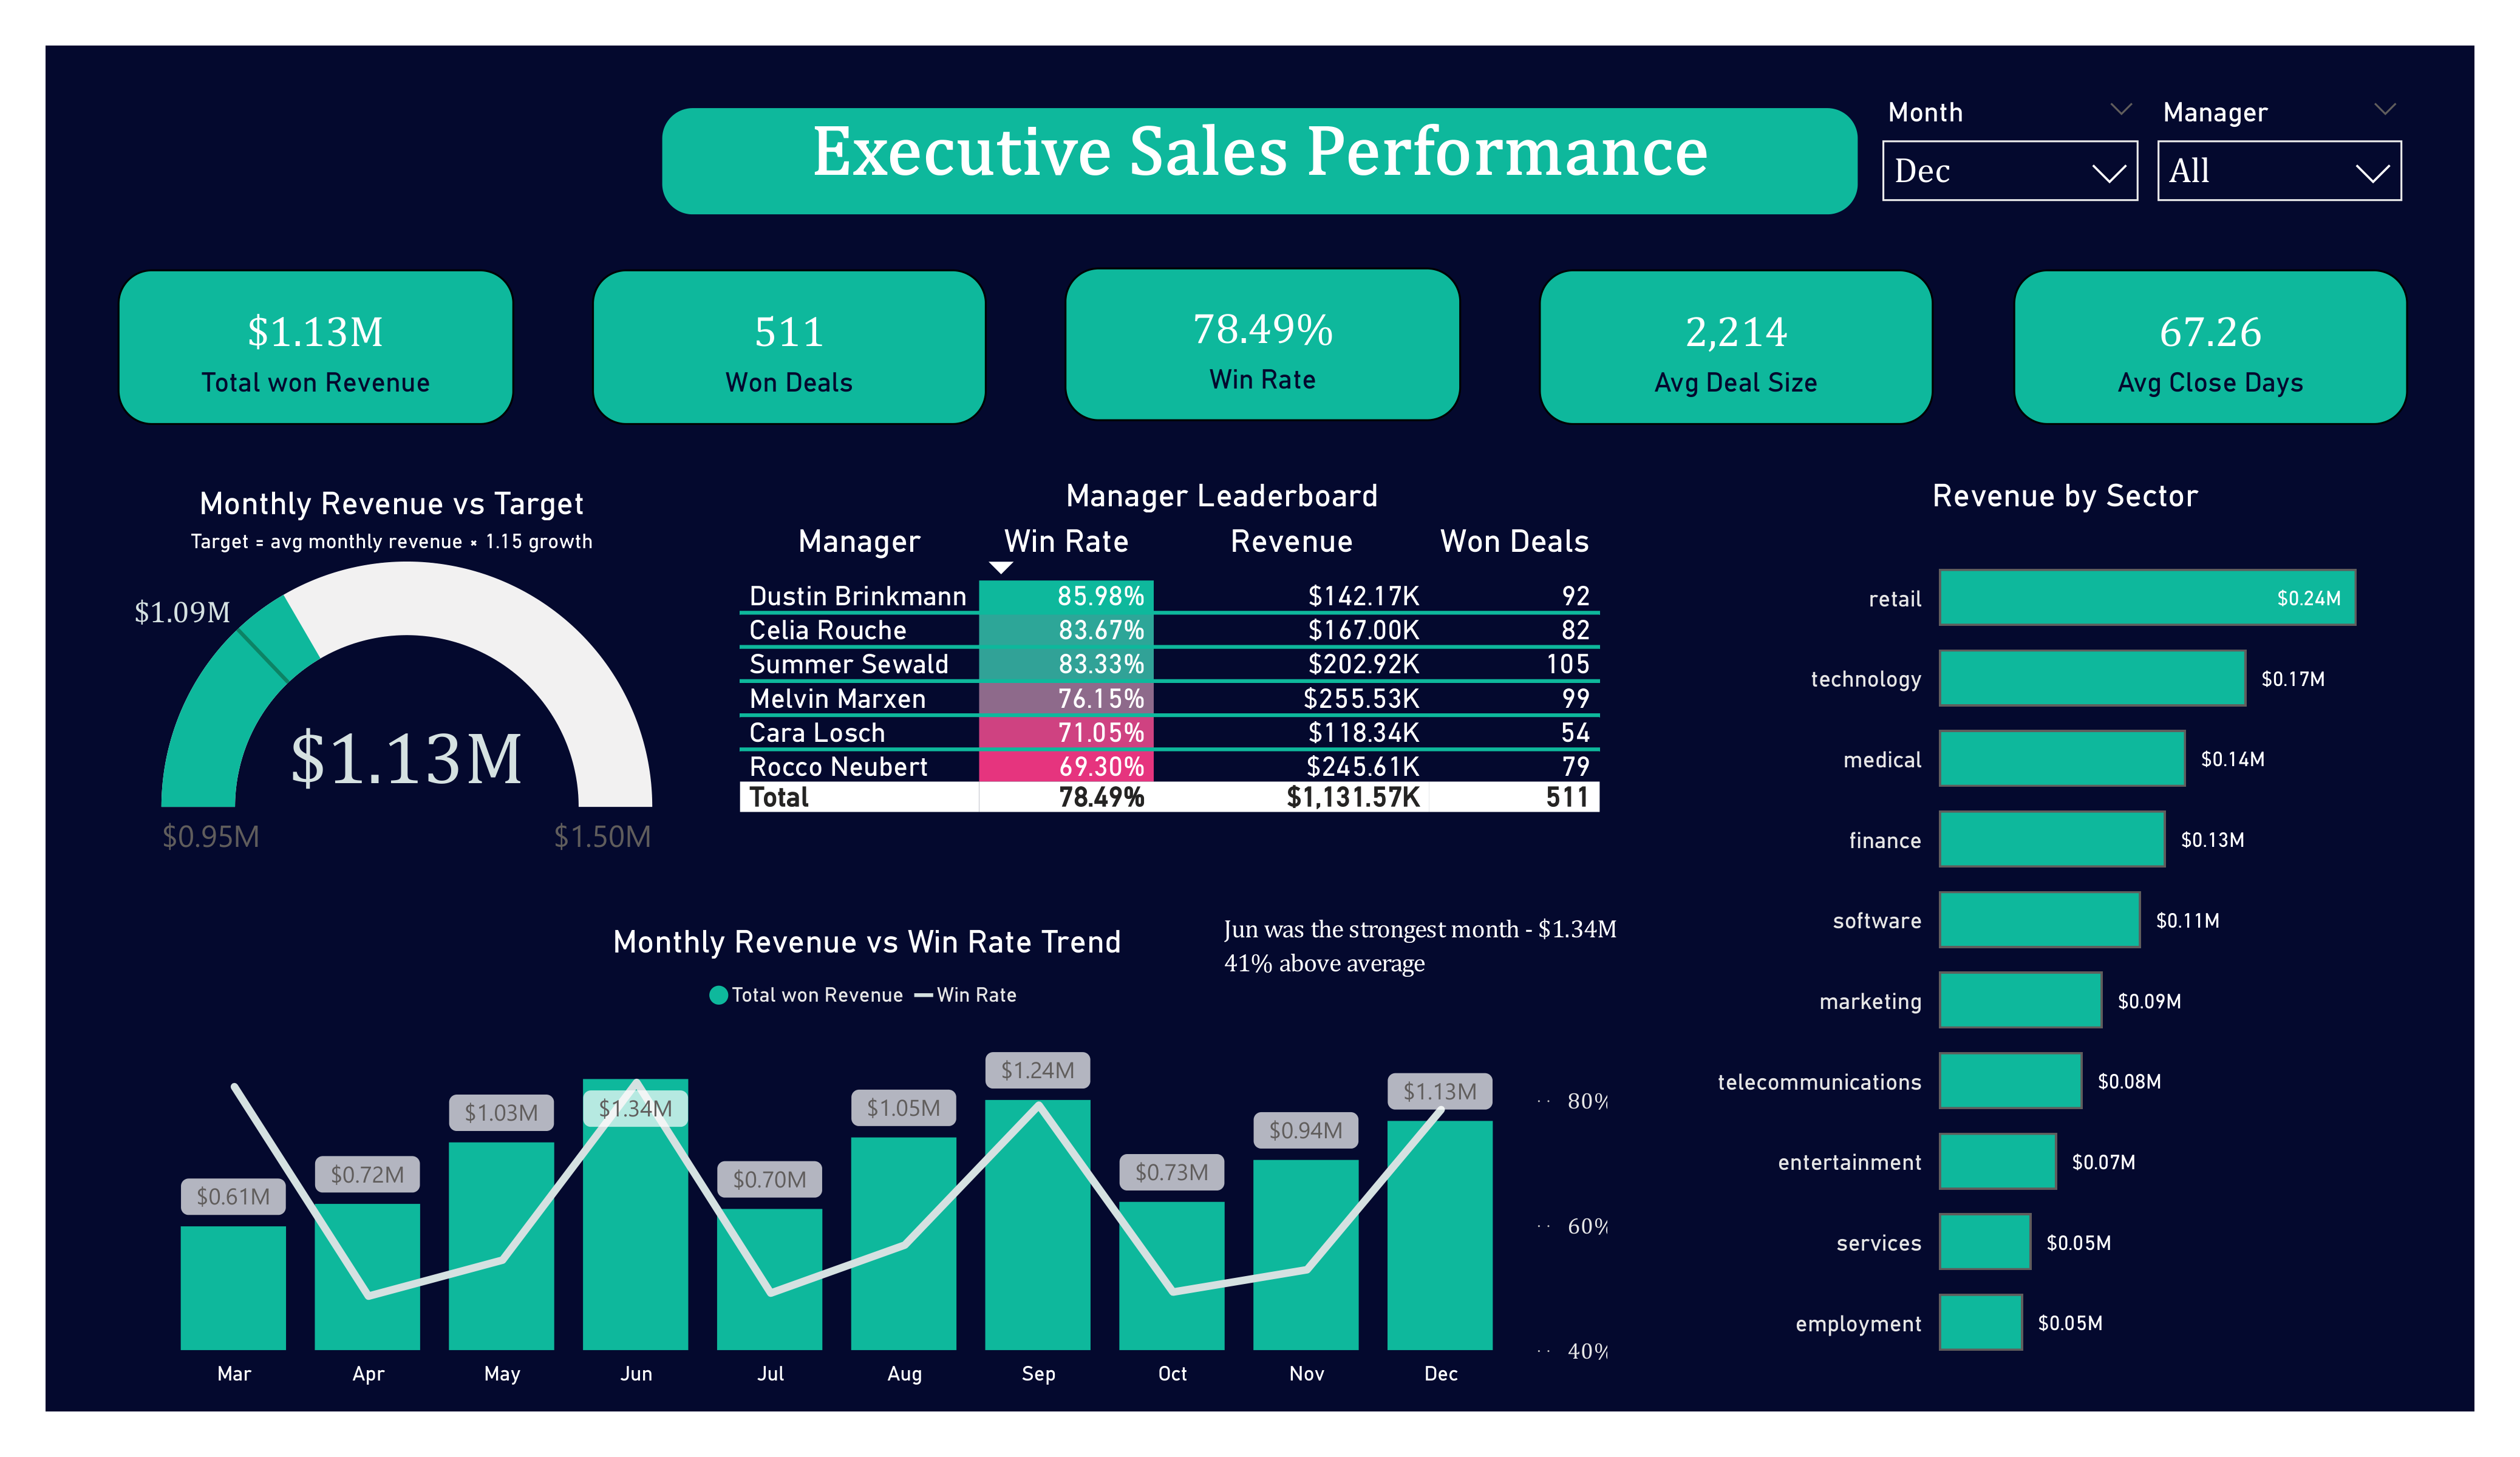

The page's visual inventory and layout, read from the dashboard file:
{"tool":"powerbi","page":{"name":"Executive Sales Overview","canvas":[1280,720],"ordinal":0},"visuals":[{"type":"lineClusteredColumnComboChart","title":"Monthly Revenue vs Win Rate Trend","fields":{"Category":["pipeline.Close Month Name"],"Y2":["pipeline.Win Rate"],"Y":["pipeline.Total won Revenue"]},"box":[37.5,461.7,790,252.5],"z":0},{"type":"gauge","title":"Monthly Revenue vs Target                ","fields":{"TargetValue":["pipeline.Target"],"Y":["pipeline.Total won Revenue"],"MinValue":["pipeline.Avg Monthly Revenue"]},"box":[28.6,231.4,307.1,201.4],"z":1000},{"type":"slicer","fields":{"Values":["pipeline.Close Month Name"]},"box":[958.3,21.7,155,63.3],"z":2000},{"type":"textbox","box":[325,32.5,630,56.2],"z":3000},{"type":"card","fields":{"Values":["pipeline.Win Rate"]},"box":[537.5,116.7,208.3,81.7],"z":4000},{"type":"card","fields":{"Values":["pipeline.Won Deals"]},"box":[287.9,118.3,208.3,81.7],"z":5000},{"type":"card","fields":{"Values":["pipeline.Revenue per Opp"]},"box":[787.1,118.3,208.3,81.7],"z":6000},{"type":"barChart","title":"Revenue by Sector","fields":{"Y":["pipeline.Total won Revenue"],"Category":["accounts.sector"]},"box":[880,227.1,368.6,478.6],"z":7000},{"type":"tableEx","title":"Manager Leaderboard","fields":{"Values":["sales_teams.manager","pipeline.Win Rate","pipeline.Total won Revenue","pipeline.Won Deals"]},"box":[360,226.7,520,206.7],"z":8000},{"type":"card","fields":{"Values":["pipeline.avg deal duration (Days)"]},"box":[1036.7,118.3,208.3,81.7],"z":9000},{"type":"card","fields":{"Values":["pipeline.Total won Revenue"]},"box":[38.3,118.3,208.3,81.7],"z":10000},{"type":"slicer","fields":{"Values":["sales_teams.manager"]},"box":[1103.3,21.7,148.3,66.7],"z":11000},{"type":"textbox","box":[621.2,456.2,243.8,48.8],"z":12000}]}

Visuals, with their boxes on the page's 1280x720 design canvas (x1, y1, x2, y2). These are canvas units, not pixel positions in the 2520x1457 screenshot, which may show the page scaled, cropped or inside an application window:
"Monthly Revenue vs Win Rate Trend" lineClusteredColumnComboChart: <box>38,462,828,714</box>
"Monthly Revenue vs Target                " gauge: <box>29,231,336,433</box>
slicer - pipeline.Close Month Name: <box>958,22,1113,85</box>
textbox: <box>325,32,955,89</box>
card - pipeline.Win Rate: <box>538,117,746,198</box>
card - pipeline.Won Deals: <box>288,118,496,200</box>
card - pipeline.Revenue per Opp: <box>787,118,995,200</box>
"Revenue by Sector" barChart: <box>880,227,1249,706</box>
"Manager Leaderboard" tableEx: <box>360,227,880,433</box>
card - pipeline.avg deal duration (Days): <box>1037,118,1245,200</box>
card - pipeline.Total won Revenue: <box>38,118,247,200</box>
slicer - sales_teams.manager: <box>1103,22,1252,88</box>
textbox: <box>621,456,865,505</box>
